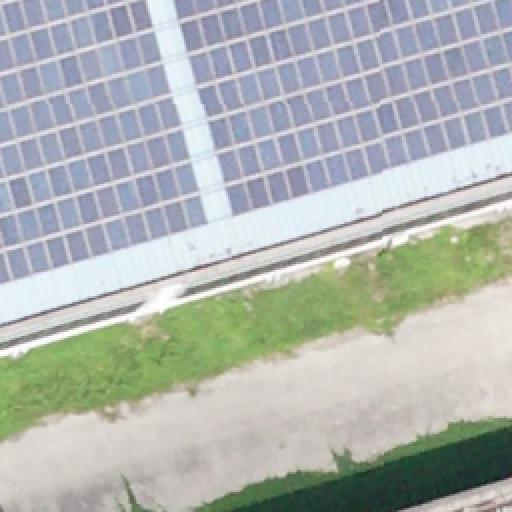solar-panel: (177, 0, 511, 220), (0, 0, 208, 282)
